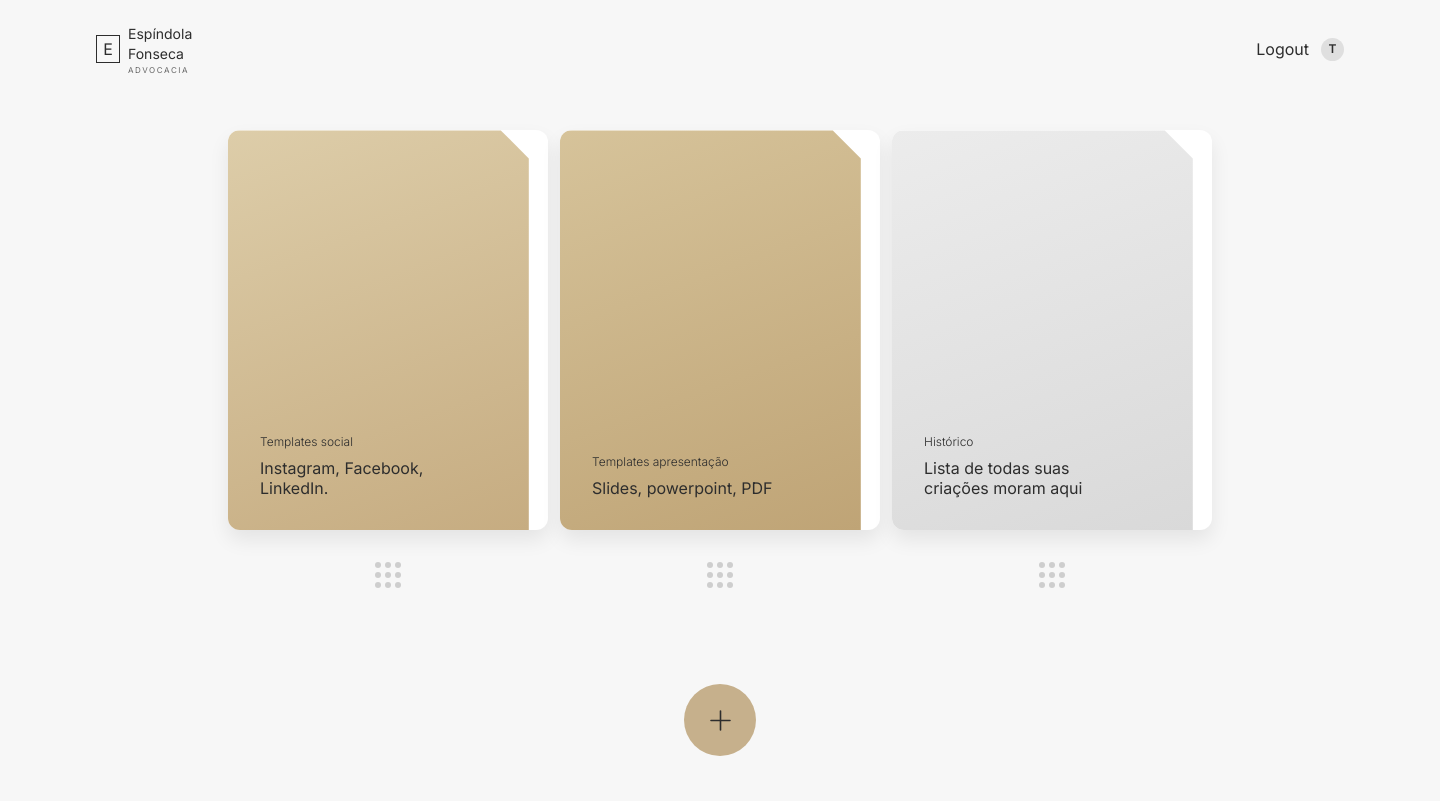
Scenario: App shell e rotas › logout na topbar leva para /login
This screenshot has width=1440, height=801.
What coordinates should you click on to do the following:
click the button "Logout"
I would click on:
 (1283, 49)
Its box is [1256,37,1309,61].
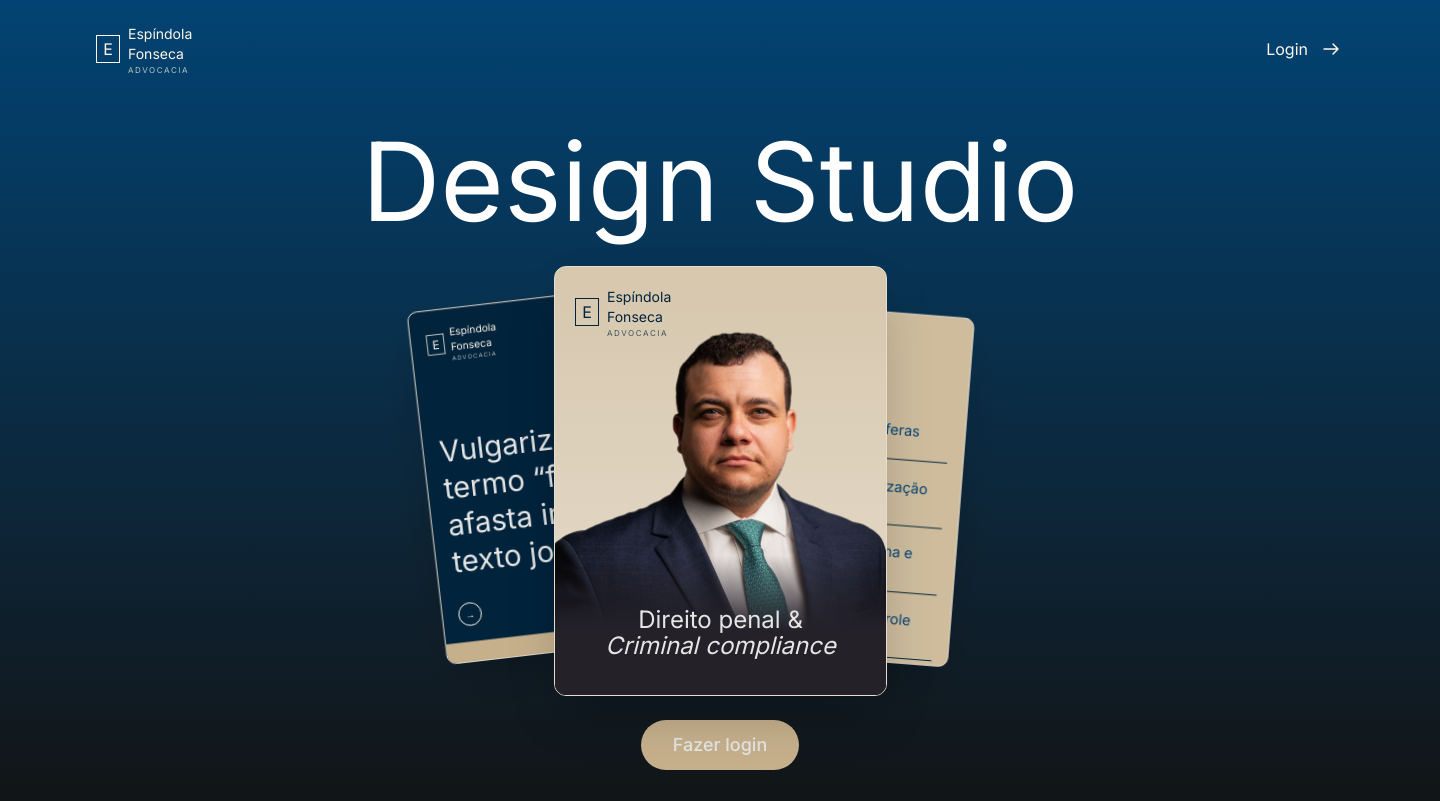
Check: the button "Fazer login" is shown, box [641,720,799,770]
